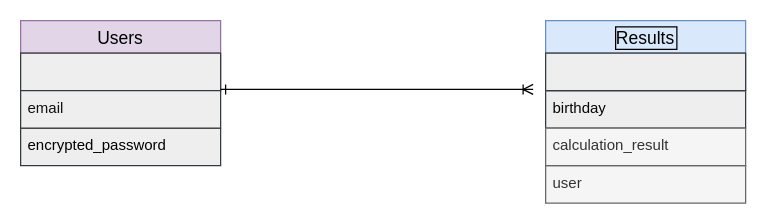
Some shapes in this 766 by 224 pixel diagram are drawn without their labels. The centre of each missing label's shape, as x and y in pixels:
"name" belongs at pixel 645 71.
"nickname" belongs at pixel 120 71.
